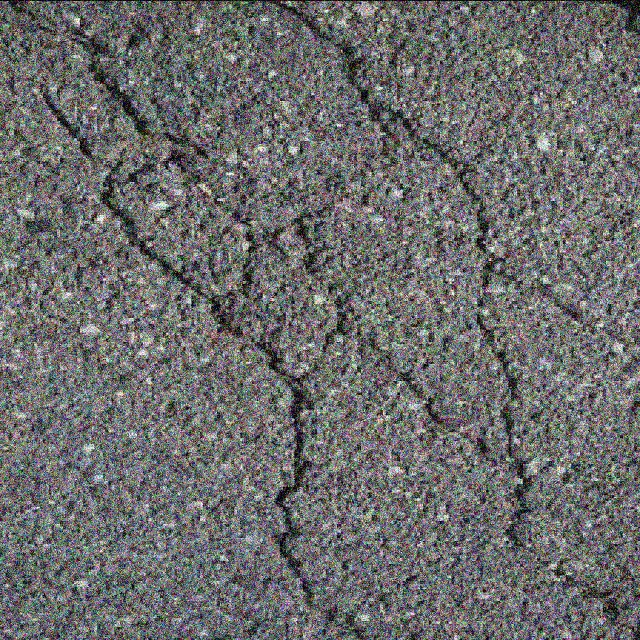SurfaceCrack: (10, 0, 366, 640), (278, 0, 608, 612)
